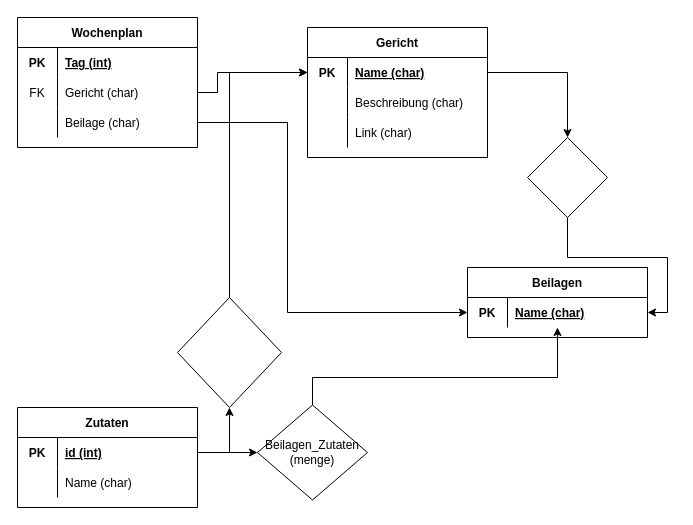
Image size: 693x525. Some labels were removed from this diagram. The shapes that lost their labels are listed below. From the top down, each one's centre as x and y in pixels, then its label:
At point 567,177: "Gericht_Beilagen".
At point 229,352: "Gericht_Zutaten (menge)".
